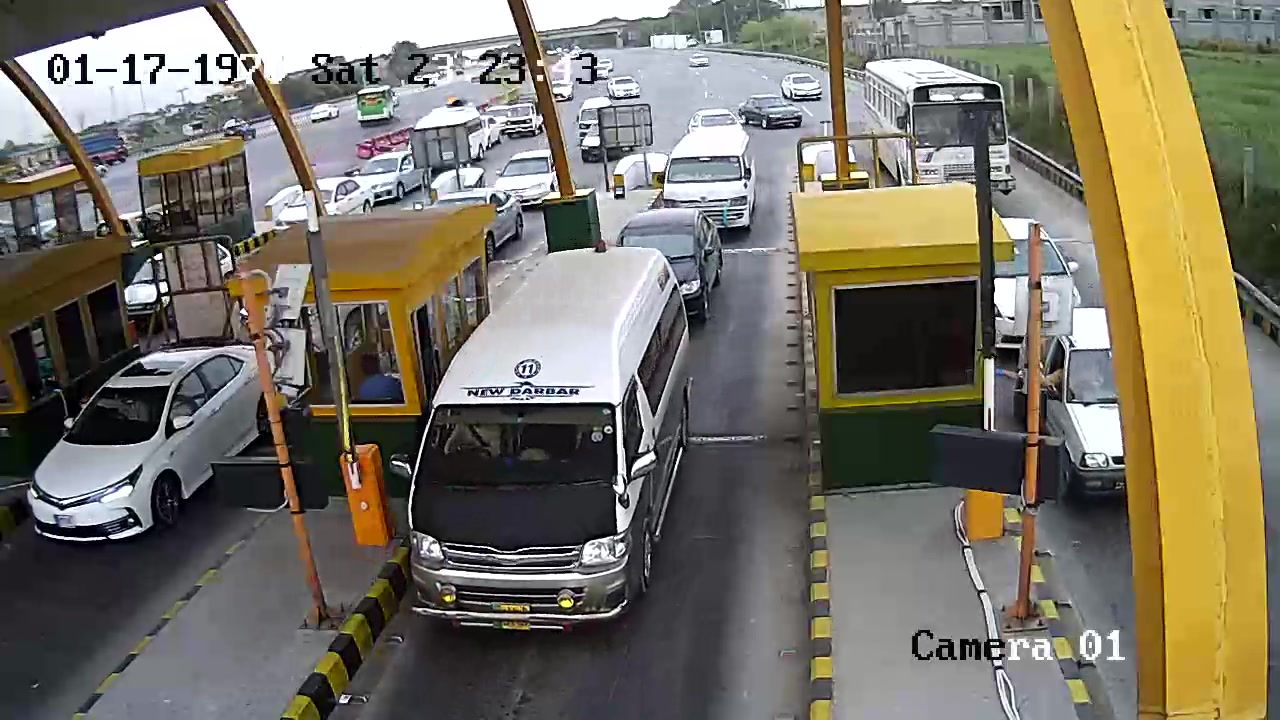F2: (406, 247, 701, 635)
